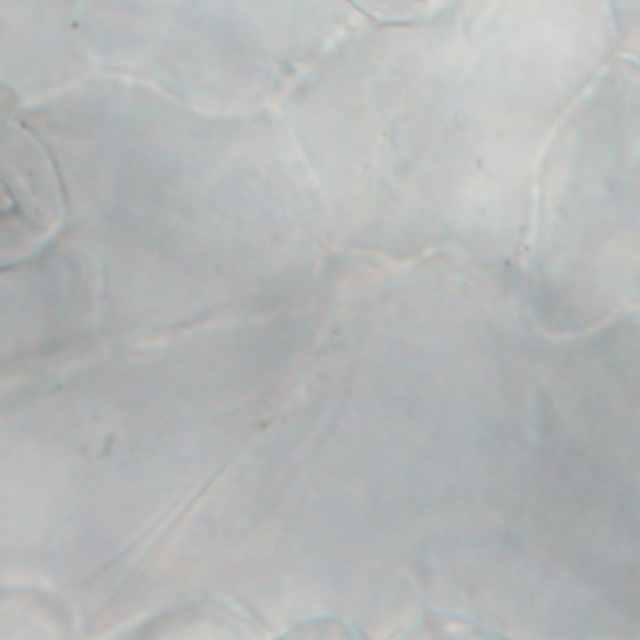center: (0, 188, 66, 197), (379, 11, 428, 14), (300, 626, 337, 629)
stomata-huw1: (1, 117, 63, 268), (350, 1, 457, 24), (277, 616, 360, 639)
